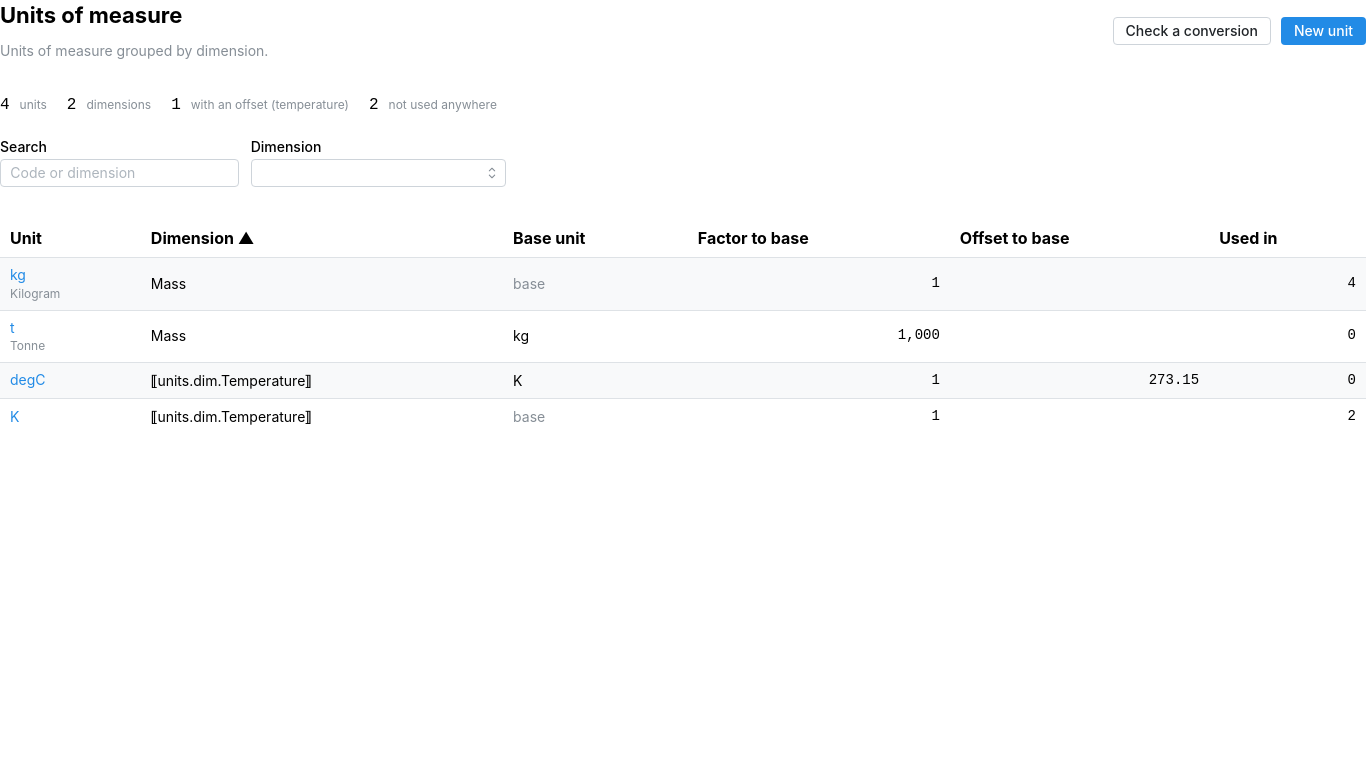
Test: UnitsPage на шаблоні переліку (UI-21) › у рядку немає «Edit»/«Remove»; вони у шторці, що відкривається за ?panel=
Click the button "t". click: [12, 328]
box: [10,318,15,338]
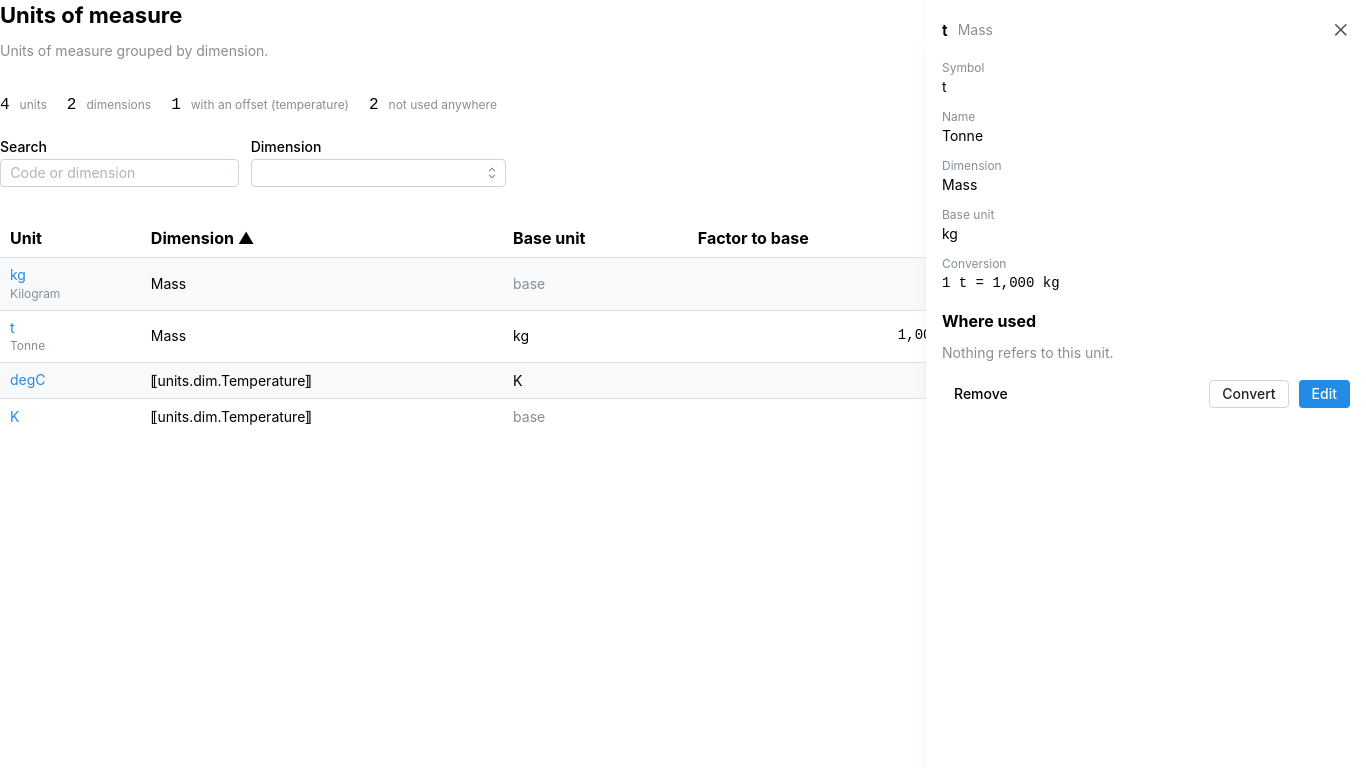
expect the text "1 t = 1,000 kg" is shown: met, box [942,275,1060,291]
expect the text "Tonne" below "Name" is shown: met, box [942,127,983,144]
expect the text "Nothing refers to this unit." is shown: met, box [942,344,1114,362]
